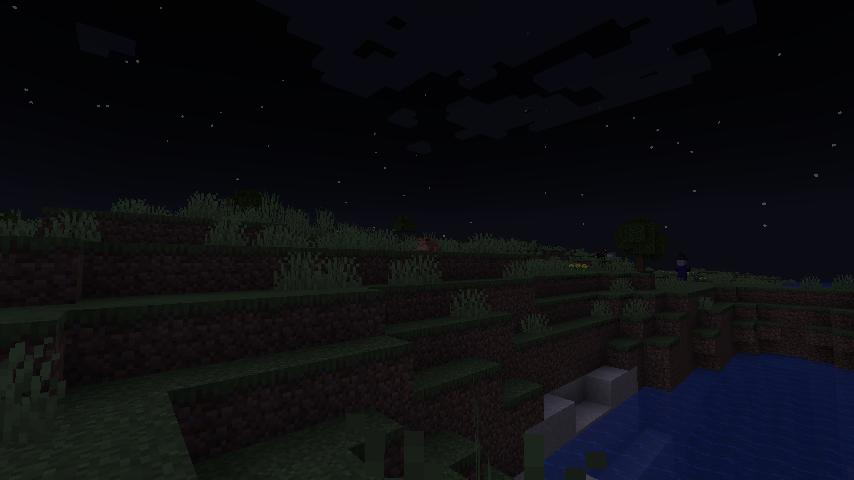frog: (414, 234, 441, 253)
